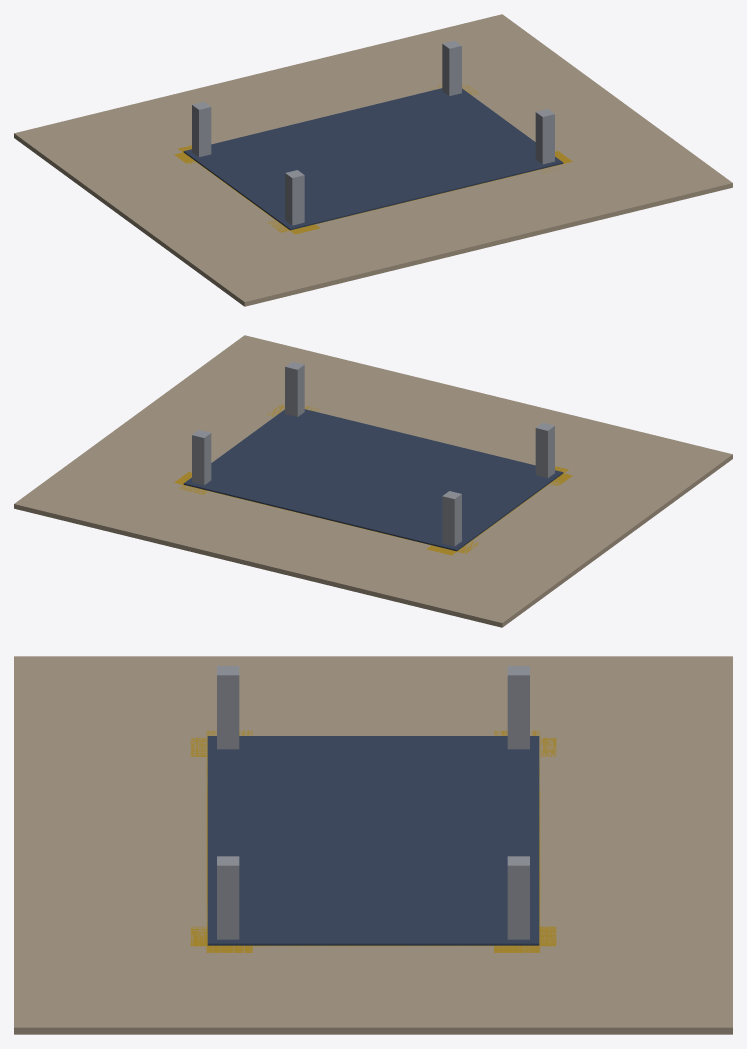
File: stage_06_walls.glb
3 renders of one model, top to bottom at view 1: azimuth 30°, elevation 25°; view 2: azimuth 150°, elevation 25°; view 3: azimuth 270°, elevation 25°, orthographic. The views are drawn at different scales.
Visible parts, largest first — view 1: world; view 2: world; view 3: world.
Boxes of the visible parts, x1=… form: world: x1=14, y1=14, x2=732, y2=306; world: x1=14, y1=335, x2=732, y2=627; world: x1=14, y1=656, x2=732, y2=1034.
Size of the model in its own units: 11 by 1.85 by 9.
